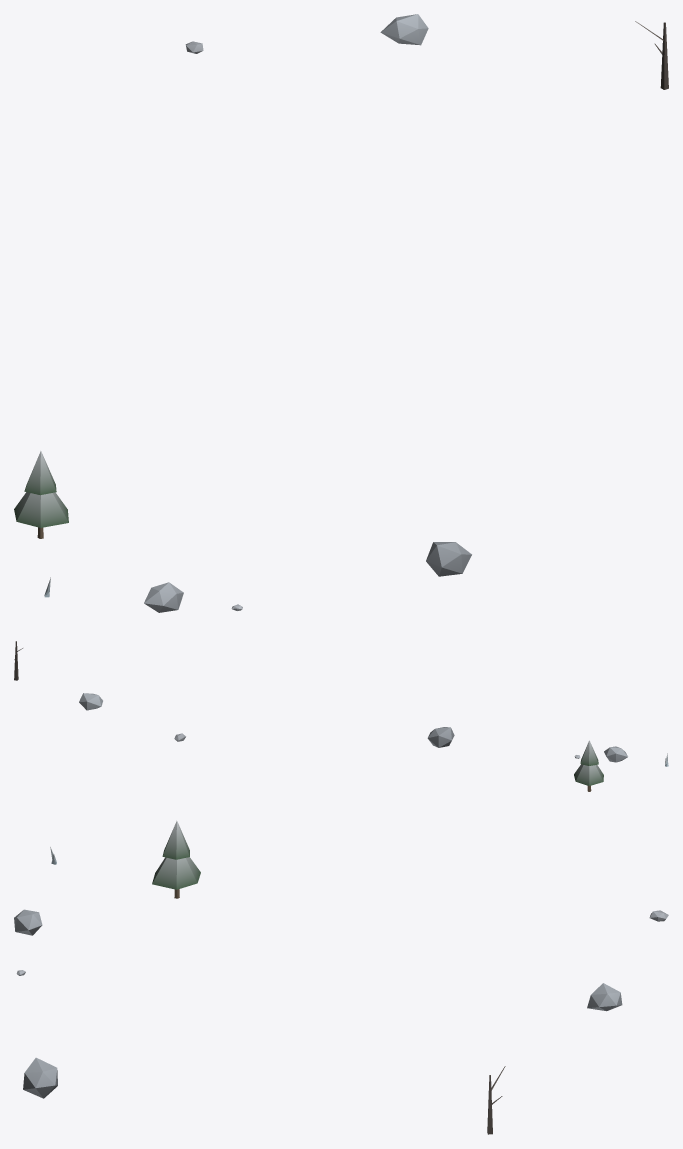
The model's file is frost_land_scatter_c13_13_lod1.glb.
3 views of the same model, one above another, from view 1: azimuth 30°, elevation 25°; view 2: azimuth 150°, elevation 25°; view 3: azimuth 270°, elevation 25° (orthographic). The views are drawn at different scales.
Visible parts, largest first — view 1: frost_land_scatter_c13_13_lod1; view 2: frost_land_scatter_c13_13_lod1; view 3: frost_land_scatter_c13_13_lod1.
Part boxes in pixels (box(x1,y1,x2,y2)): frost_land_scatter_c13_13_lod1: box(14, 14, 668, 612); frost_land_scatter_c13_13_lod1: box(14, 641, 668, 791); frost_land_scatter_c13_13_lod1: box(14, 821, 668, 1134).
Bounding box in the file's own units: 84.73 × 23.75 × 62.47.
